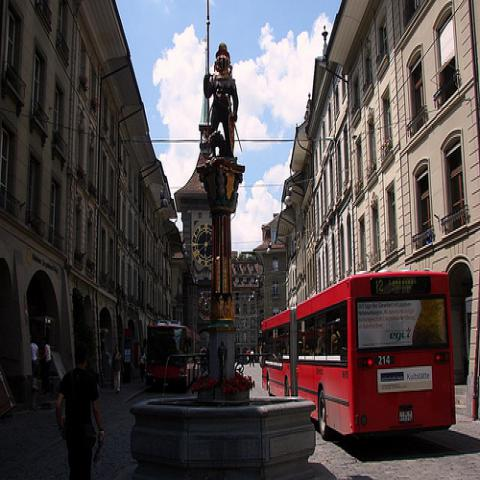bus: (297, 277, 458, 436), (143, 316, 203, 394)
